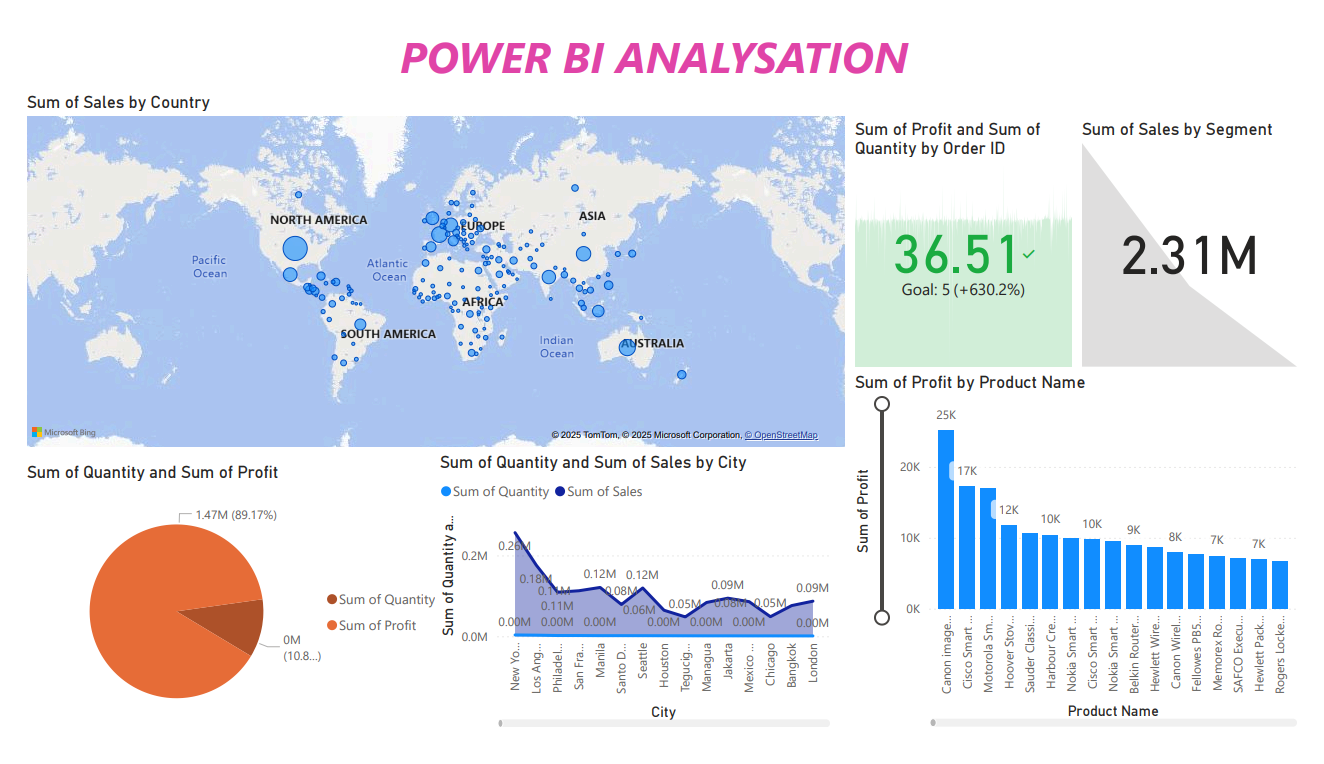

The dashboard page shown, as its layout file describes it:
{"tool":"powerbi","page":{"name":"Page 1","canvas":[1280,720],"ordinal":0},"visuals":[{"type":"lineStackedColumnComboChart","fields":{"Y":["Sum(Orders.Profit)"],"Category":["Orders.Product Name"]},"box":[831.7,420.7,428.3,280],"z":0},{"type":"map","fields":{"Category":["Orders.Country"],"Size":["Sum(Orders.Sales)"]},"box":[16.7,92.4,773.3,320],"z":1000},{"type":"textbox","box":[225,0,828.3,91.7],"z":2000},{"type":"pieChart","fields":{"Y":["Sum(Orders.Quantity)","Sum(Orders.Profit)"]},"box":[16.7,420.7,386.7,280],"z":3000},{"type":"lineChart","fields":{"Category":["Orders.City"],"Y":["Sum(Orders.Quantity)","Sum(Orders.Sales)"]},"box":[416.7,420.7,398.3,280],"z":4000},{"type":"kpi","title":"Profit & Quantity by Order","fields":{"TrendLine":["Orders.Order ID"],"Indicator":["Sum(Orders.Profit)"],"Goal":["Sum(Orders.Quantity)"]},"box":[799.2,92.4,226.7,320],"z":5000},{"type":"kpi","fields":{"TrendLine":["Orders.Segment"],"Indicator":["Sum(Orders.Sales)"]},"box":[1035,92.4,225,320],"z":6000}]}

Visuals, with their boxes in screenshot pixels (x1, y1, x2, y2), scaled from the page's 1280x720 canvas onto the 1324x764 screenshot:
lineStackedColumnComboChart - Sum(Orders.Profit) x Orders.Product Name: crop(860, 446, 1303, 744)
map - Orders.Country x Sum(Orders.Sales): crop(17, 98, 817, 438)
textbox: crop(233, 0, 1090, 97)
pieChart - Sum(Orders.Quantity) x Sum(Orders.Profit): crop(17, 446, 417, 744)
lineChart - Orders.City x Sum(Orders.Quantity): crop(431, 446, 843, 744)
"Profit & Quantity by Order" kpi: crop(827, 98, 1061, 438)
kpi - Orders.Segment x Sum(Orders.Sales): crop(1071, 98, 1303, 438)
